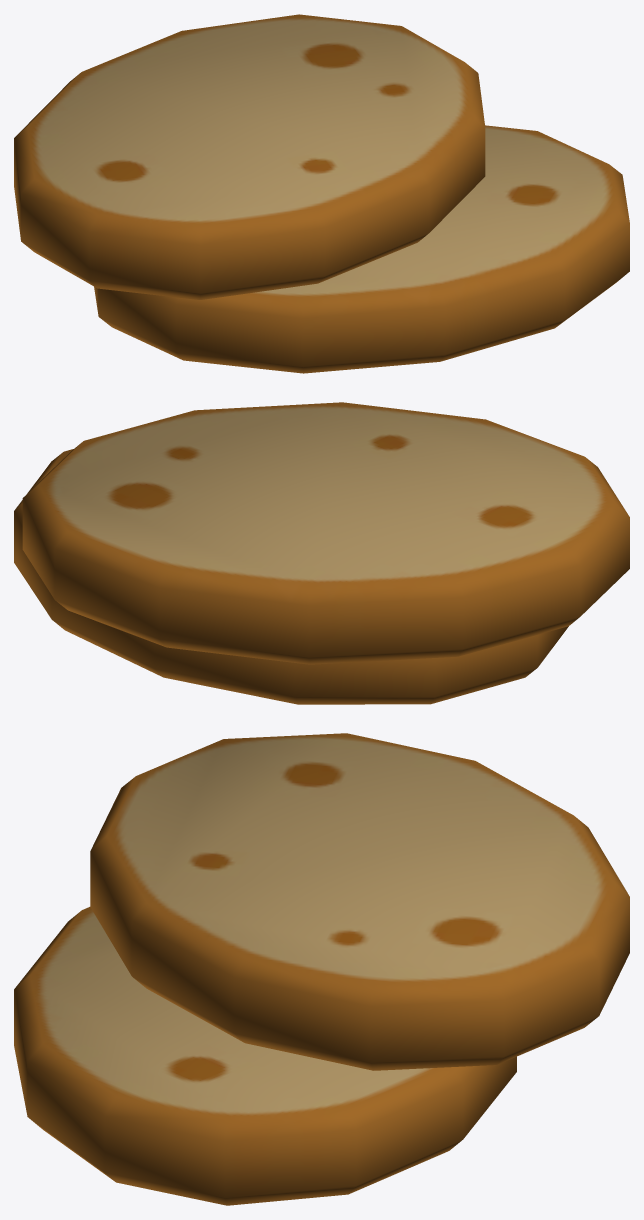
File: potatocut.glb
The picture shows the model from 3 angles, top to bottom: view 1: azimuth 30°, elevation 25°; view 2: azimuth 150°, elevation 25°; view 3: azimuth 270°, elevation 25°; orthographic projection. The views are drawn at different scales.
Visible parts, largest first — view 1: geometry_0; view 2: geometry_0; view 3: geometry_0.
Boxes of the visible parts, x1,y1,x2,y2 form: geometry_0: [14, 14, 629, 373]; geometry_0: [14, 402, 629, 704]; geometry_0: [14, 733, 629, 1205].
Size of the model in its own units: 1.08 by 0.2833 by 0.9053.
1 material, 1 textured.
